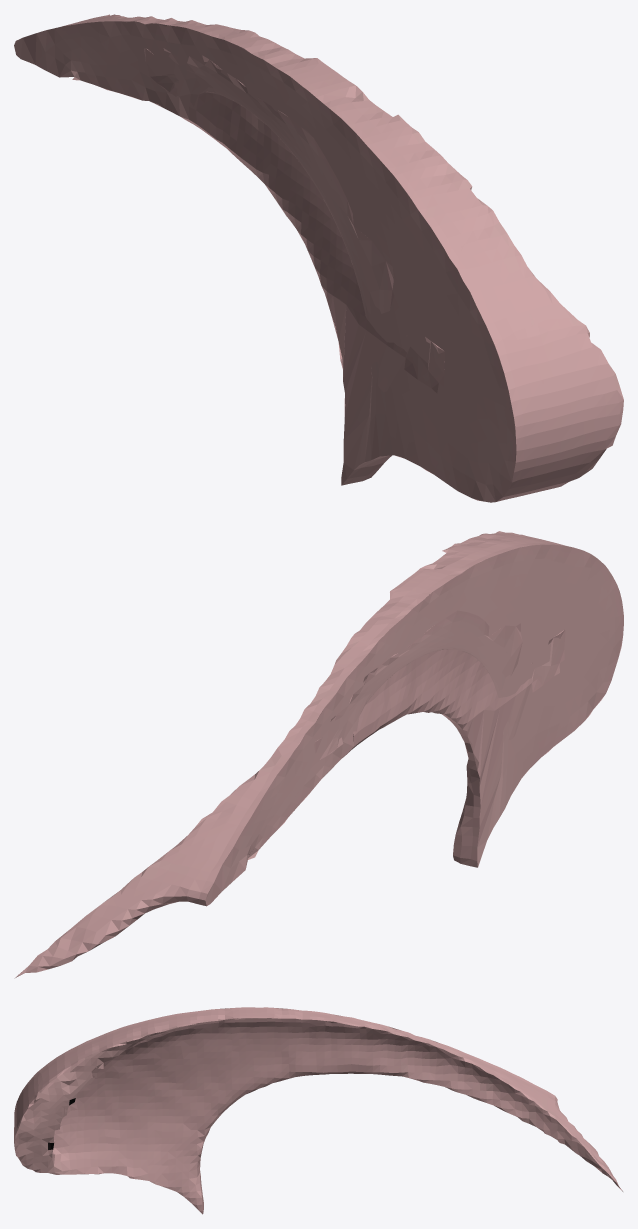
File: Septum_pellucidum1.obj
3 renders of one model, top to bottom at view 1: azimuth 30°, elevation 25°; view 2: azimuth 150°, elevation 25°; view 3: azimuth 270°, elevation 25°, orthographic. The views are drawn at different scales.
Parts seen in each view (by area): view 1: obj0; view 2: obj0; view 3: obj0.
Boxes of the visible parts, x1,y1,x2,y2 form: obj0: (14, 14, 623, 502); obj0: (14, 531, 623, 978); obj0: (14, 1007, 622, 1214).
Size of the model in its own units: 5.21 by 10.83 by 29.81.
Materials: 1 (1 with a texture image).
